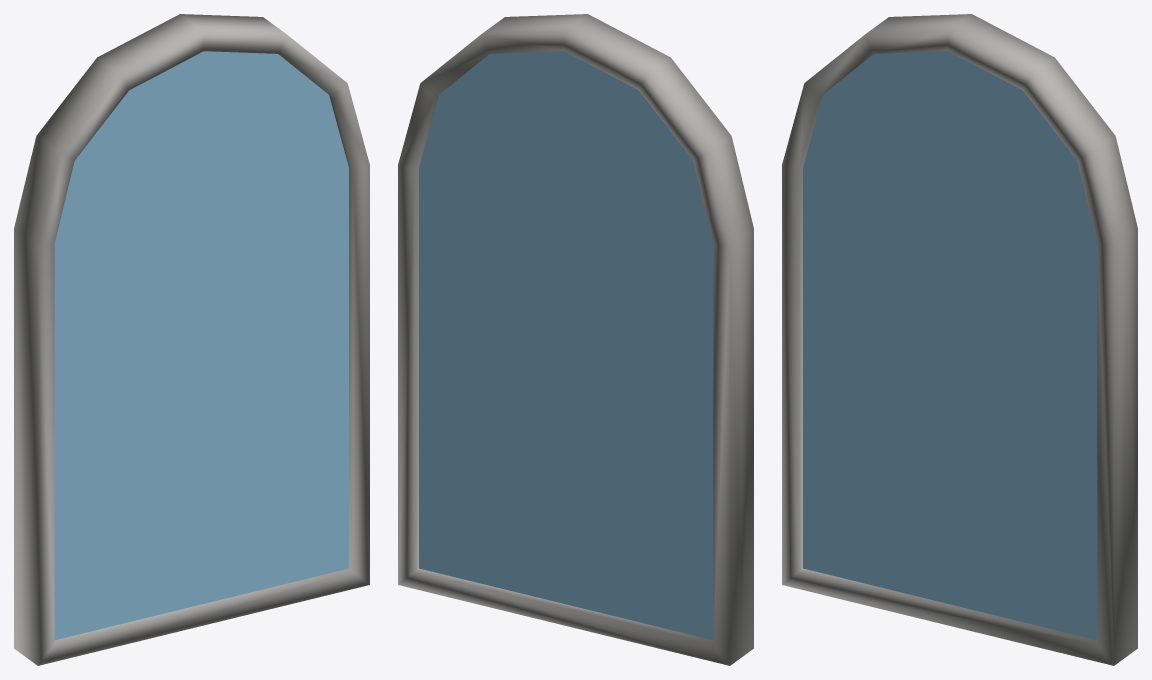
Rendered from Window_Round1.glb.
3 views of the same model, side by side, from view 1: azimuth 30°, elevation 25°; view 2: azimuth 150°, elevation 25°; view 3: azimuth 330°, elevation 25° (orthographic).
Parts seen in each view (by area): view 1: Window_Round1; view 2: Window_Round1; view 3: Window_Round1.
Part boxes in pixels (bbox=[...]): Window_Round1: bbox=[14, 14, 369, 665]; Window_Round1: bbox=[398, 14, 753, 665]; Window_Round1: bbox=[782, 14, 1137, 665].
Bounding box in the file's own units: 0.9064 × 1.55 × 0.1126.
